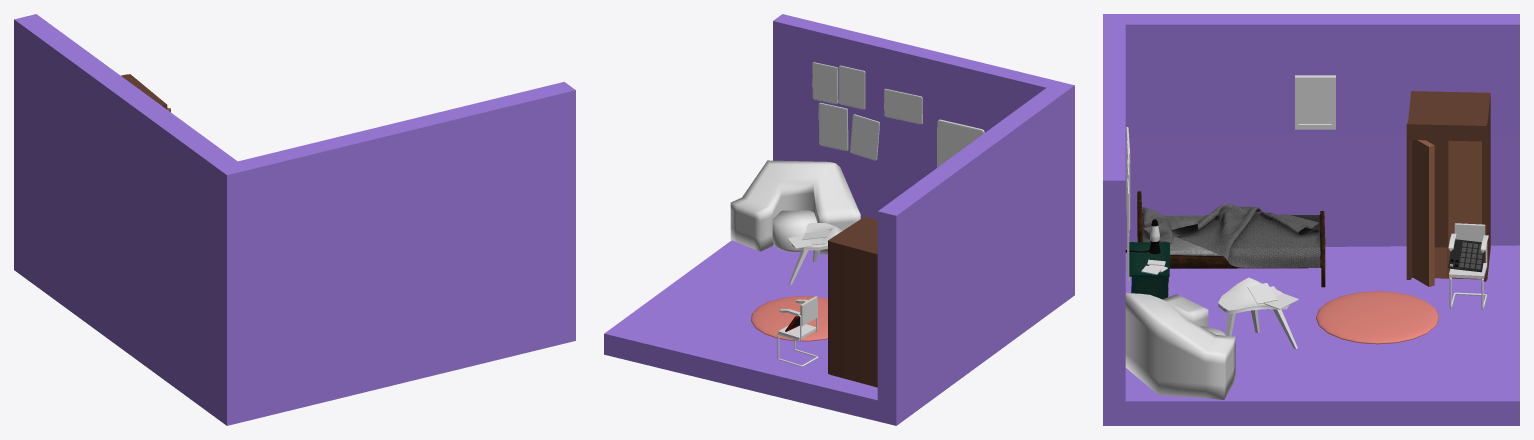
3 renders of one model, left to right at view 1: azimuth 30°, elevation 25°; view 2: azimuth 150°, elevation 25°; view 3: azimuth 270°, elevation 25°, orthographic. The views are drawn at different scales.
Visible parts, largest first — view 1: House.002; view 2: House.002, Couch:pCylinder2, kast.001, mat, pCube66, pCube69, polySurface6, pCube67, pCube70, pCube65, pCube68, pCube78; view 3: House.002, kast.001, bed, Couch:pCylinder2, mat, pCube77, cabinet1_tex_cupboard_0, pCube78, polySurface6, drumpad:Mesh, pCube72.
Part boxes in pixels (x1,y1,x2,y2): House.002: (14,14,575,425); House.002: (604,14,1074,425); Couch:pCylinder2: (730,160,860,254); kast.001: (828,216,877,387); mat: (751,296,827,341); pCube66: (818,102,848,150); pCube69: (937,119,984,167); polySurface6: (777,296,818,366); pCube67: (850,114,879,160); pCube70: (884,88,922,124); pCube65: (838,65,865,109); pCube68: (812,62,838,104); pCube78: (788,223,842,284); House.002: (1103,14,1519,425); kast.001: (1406,91,1490,286); bed: (1137,191,1325,287); Couch:pCylinder2: (1125,293,1235,399); mat: (1316,291,1439,344); pCube77: (1295,75,1335,129); cabinet1_tex_cupboard_0: (1129,242,1169,299); pCube78: (1218,277,1297,348); polySurface6: (1448,223,1488,309); drumpad:Mesh: (1448,239,1484,272); pCube72: (1247,283,1277,304).
Size of the model in its own units: 0.3975 by 0.2729 by 0.42.
Materials: 16 (3 with a texture image).
